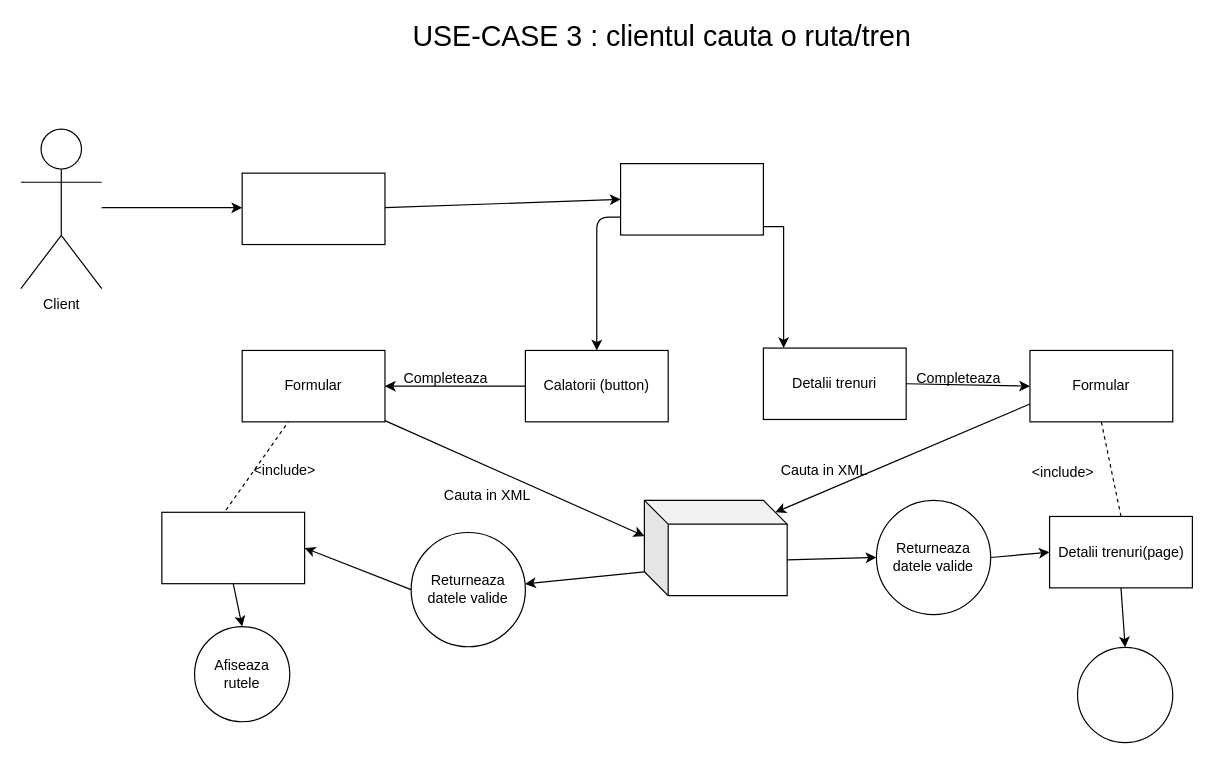
Some shapes in this 1214 by 764 pixel diagram are drawn without their labels. The centre of each missing label's shape, as x and y in pixels:
Afiseaza datele trenului: pixel 1124 694
Calatorii (page): pixel 233 547
Date XML: pixel 715 547
Meniu (dropdown): pixel 691 198
SVP NavBar: pixel 313 208
